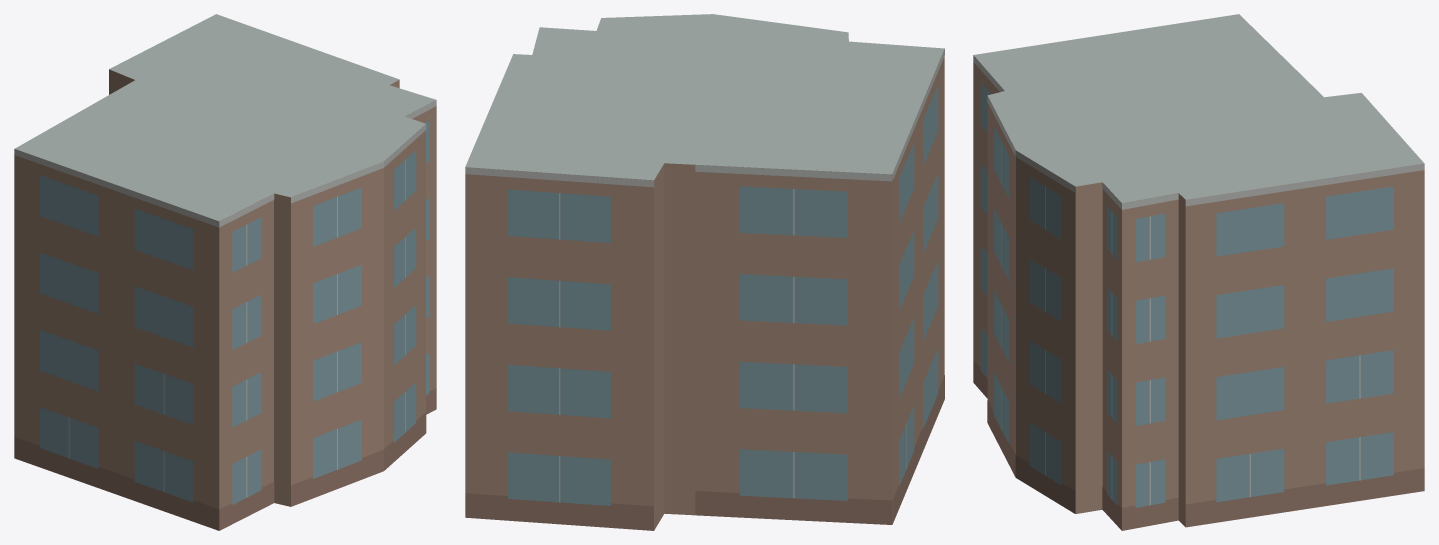
The model's file is survey-upis-32487112.glb.
3 renders of one model, left to right at view 1: azimuth 30°, elevation 25°; view 2: azimuth 150°, elevation 25°; view 3: azimuth 270°, elevation 25°, orthographic. The views are drawn at different scales.
Parts seen in each view (by area): view 1: survey-upis-32487112.tmp; view 2: survey-upis-32487112.tmp; view 3: survey-upis-32487112.tmp.
Part boxes in pixels (box(x1,y1,x2,y2)): survey-upis-32487112.tmp: box(14, 14, 436, 530); survey-upis-32487112.tmp: box(465, 14, 944, 530); survey-upis-32487112.tmp: box(973, 14, 1424, 530).
Size of the model in its own units: 15.14 by 12.2 by 15.24.
